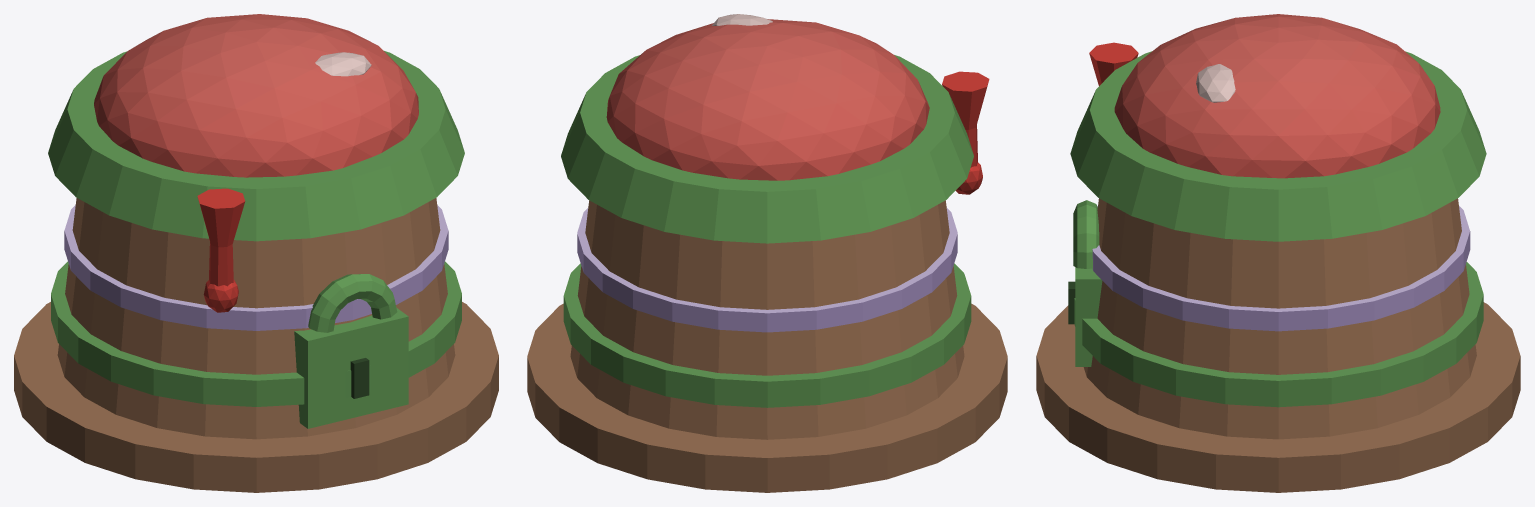
File: goo_lock_button@mushroom.fbx
3 renders of one model, left to right at view 1: azimuth 30°, elevation 25°; view 2: azimuth 150°, elevation 25°; view 3: azimuth 270°, elevation 25°, orthographic.
Parts seen in each view (by area): view 1: goo_lock_button; view 2: goo_lock_button; view 3: goo_lock_button.
Part boxes in pixels (box(x1,y1,x2,y2)): goo_lock_button: box(14, 14, 498, 492); goo_lock_button: box(527, 14, 1007, 492); goo_lock_button: box(1036, 14, 1520, 492).
Size of the model in its own units: 5 by 3.97 by 5.
